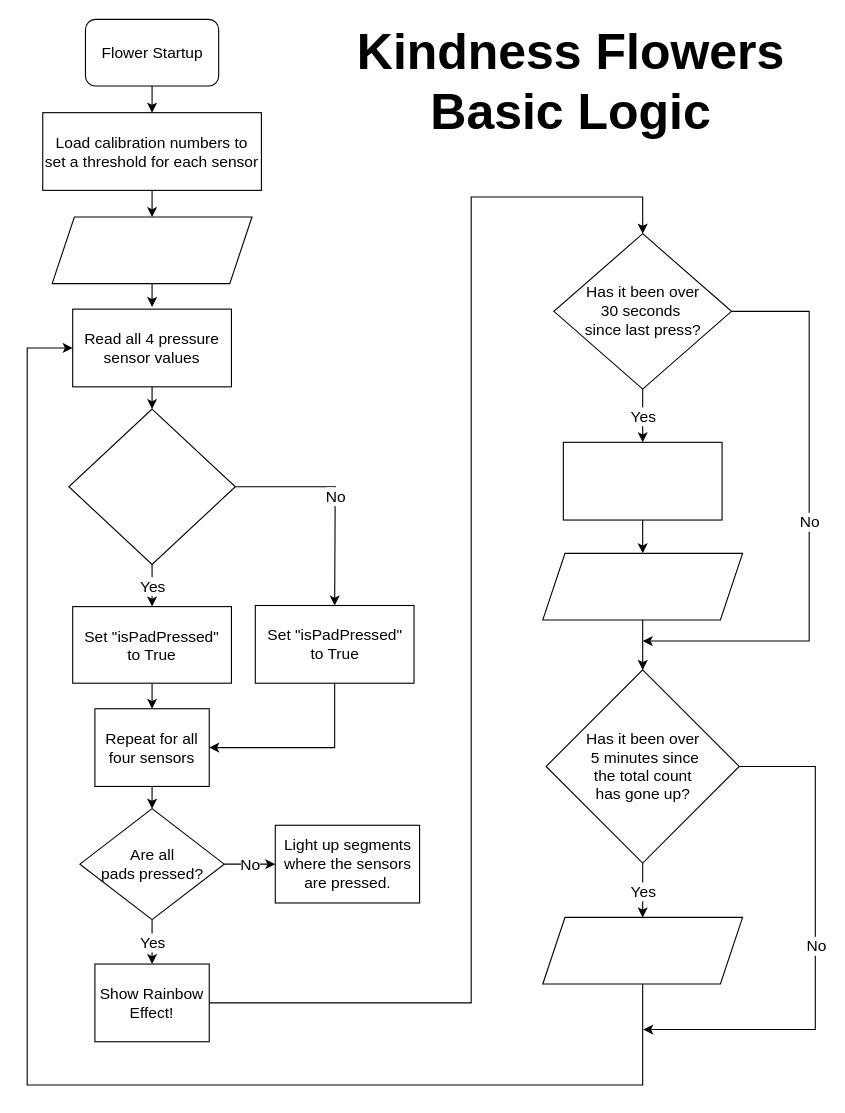
Image size: 845x1113. Some labels were removed from this diagram. Here are the shapes that lost their labels. From the top down, the centre of each, then its label:
At (x=151, y=250): "Light all LEDs to make sure they work".
At (x=151, y=486): "Is value above the grip threshold?".
At (x=642, y=480): "Add 1 to the total pass count.".
At (x=642, y=586): "Send the total pass count to Adafruit".
At (x=642, y=950): "Send current total passes to Adafruit".
